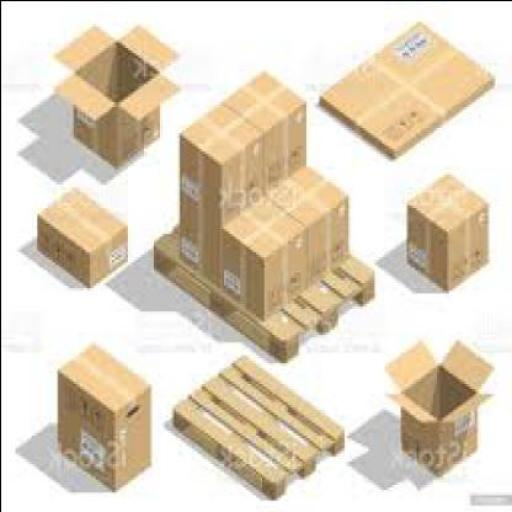cardboard: (319, 16, 496, 158), (54, 18, 184, 163), (386, 333, 494, 474), (58, 344, 155, 489), (222, 69, 308, 194), (221, 194, 307, 312), (181, 101, 263, 217), (406, 171, 488, 287), (267, 166, 350, 276), (38, 186, 131, 282), (181, 188, 225, 277)
